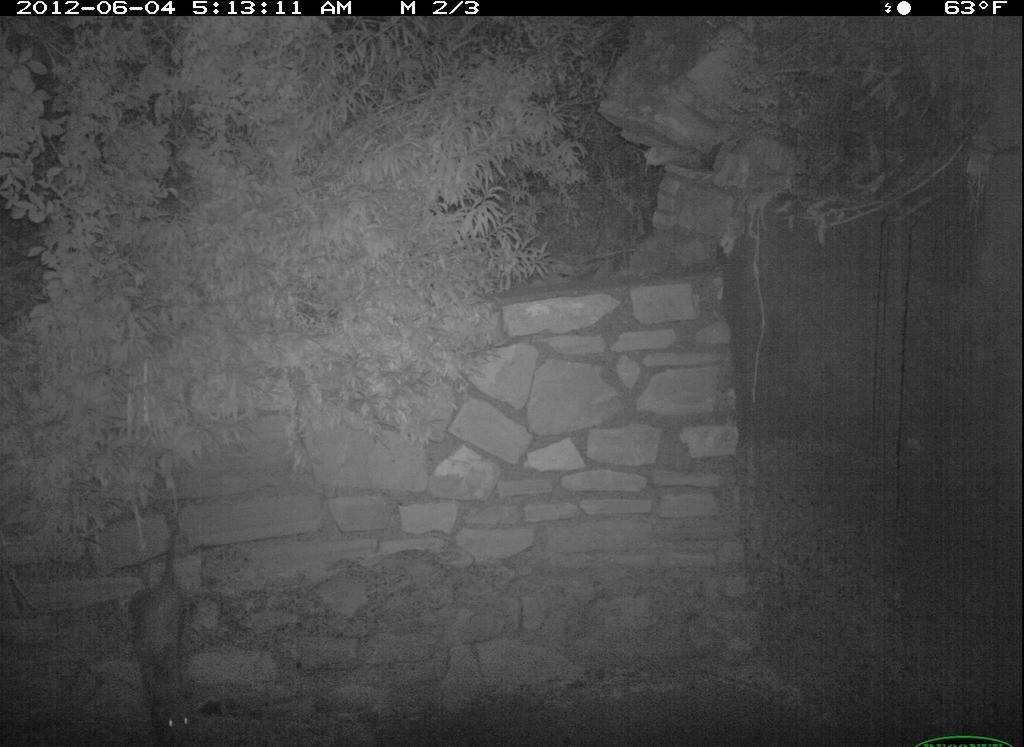opossum: (95, 521, 231, 745)
